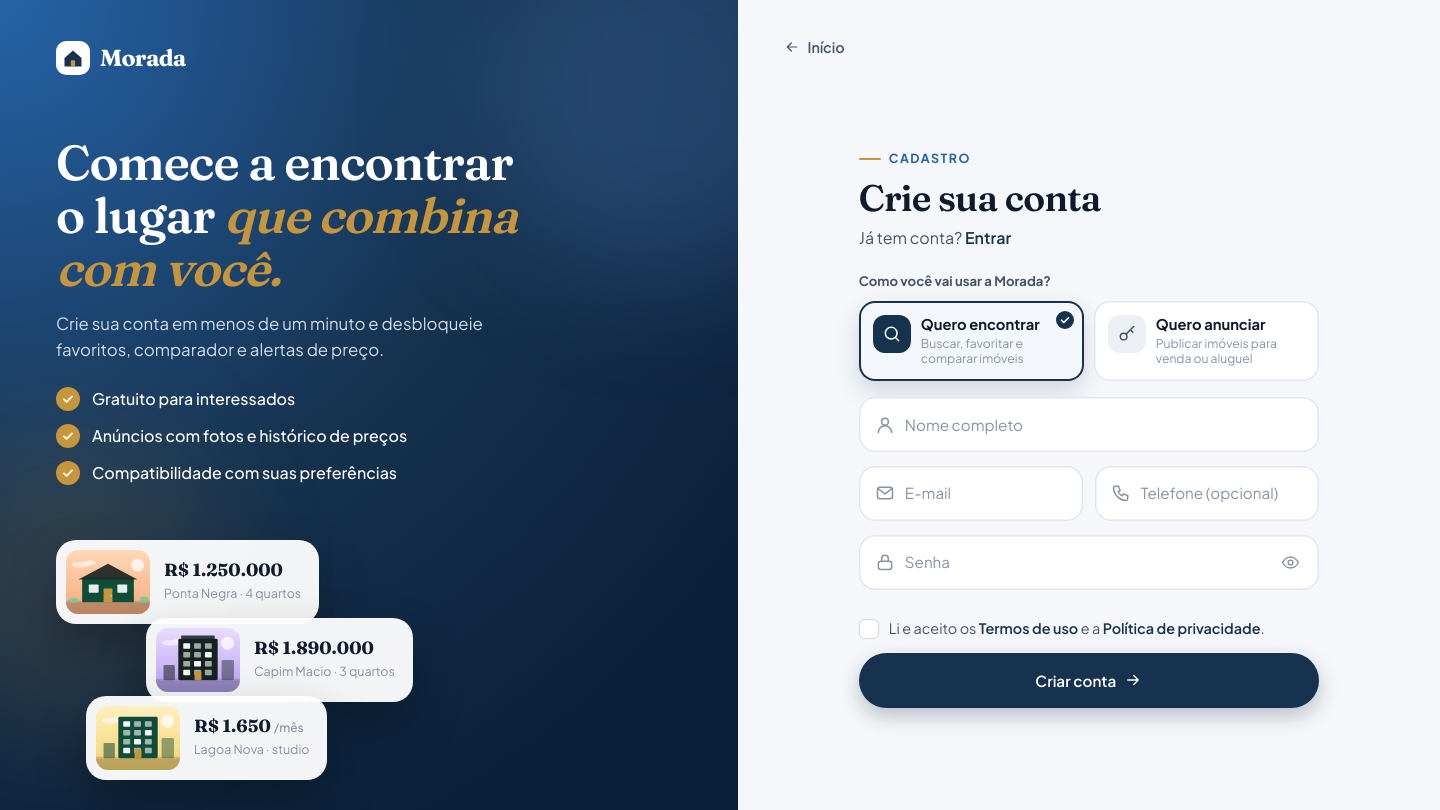
Scenario: Tela de Cadastro (Cadastro.jsx) › deve exibir erros de validação ao enviar formulário vazio sem aceitar os termos
Click the button "Criar conta".
click(1089, 680)  # box x1=859 y1=653 x2=1319 y2=708
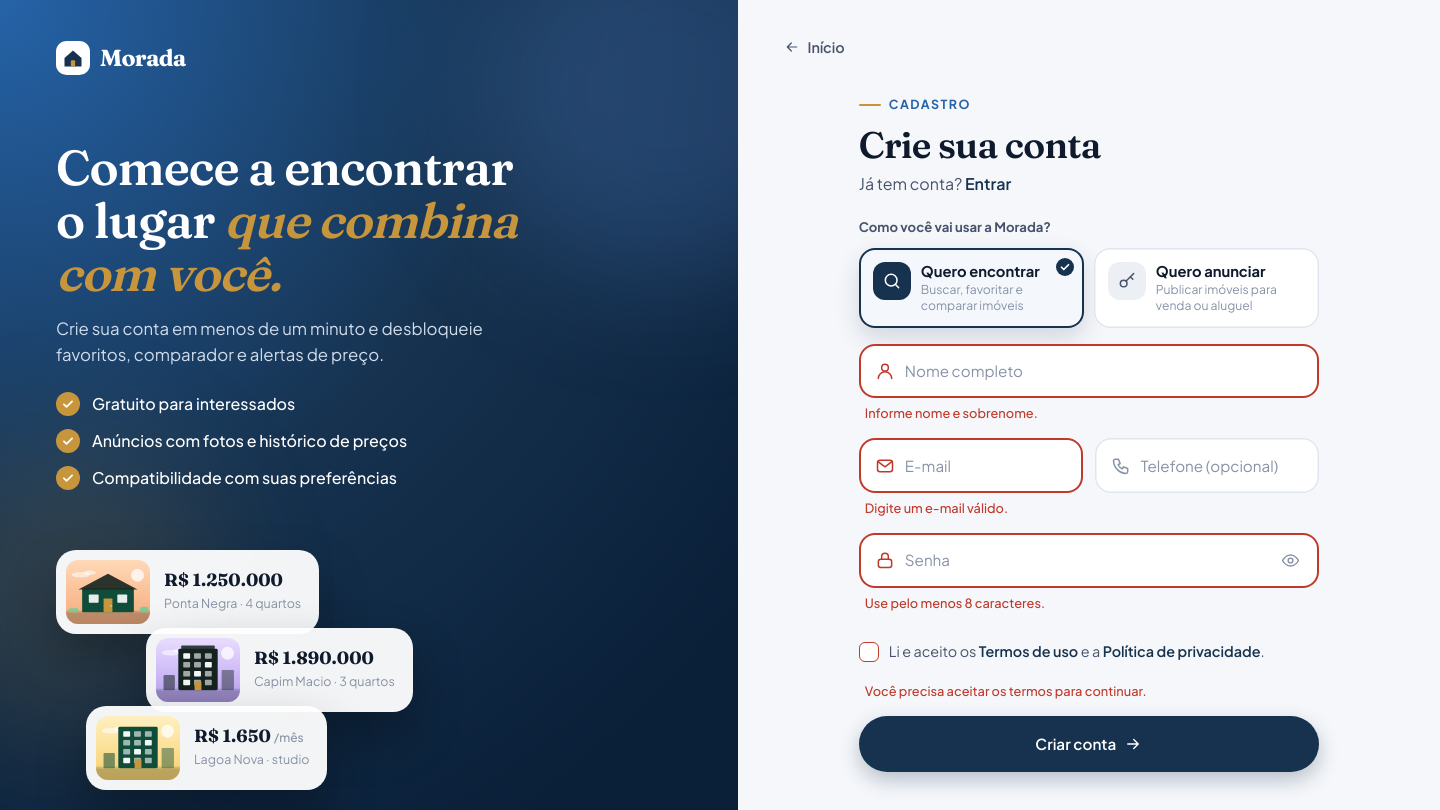
Check: the text "Informe nome e sobrenome." is shown, box x1=865 y1=405 x2=1038 y2=421
Check: the text "Digite um e-mail válido." is shown, box x1=865 y1=500 x2=1008 y2=516
Check: the text "Use pelo menos 8 caracteres." is shown, box x1=865 y1=595 x2=1045 y2=611
